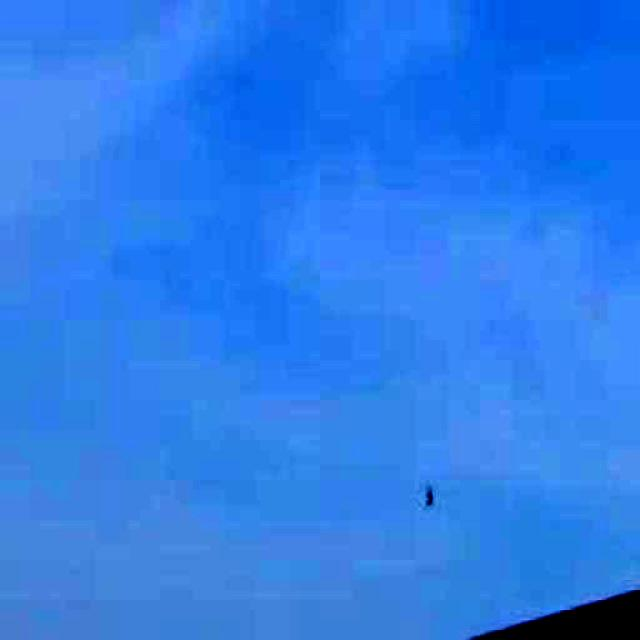drone: (404, 469, 454, 528)
